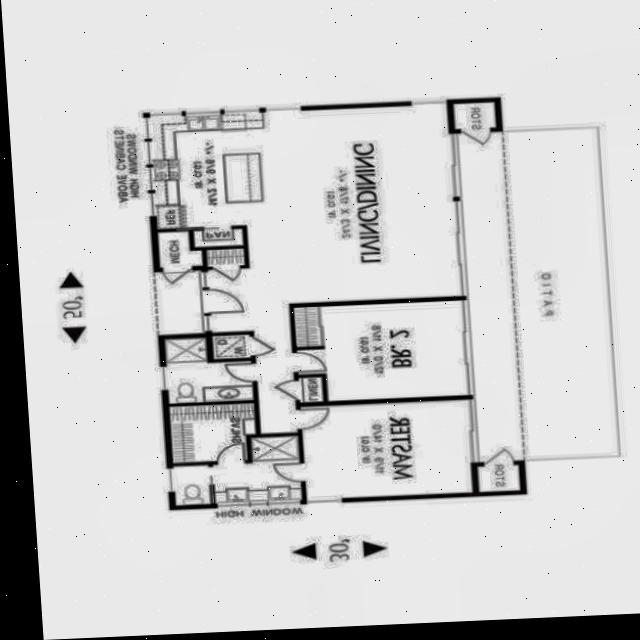room: (150, 104, 467, 438), (293, 300, 468, 402), (300, 400, 471, 500), (171, 436, 301, 506), (165, 336, 251, 404), (168, 403, 256, 463), (478, 465, 519, 492), (454, 103, 496, 129)
